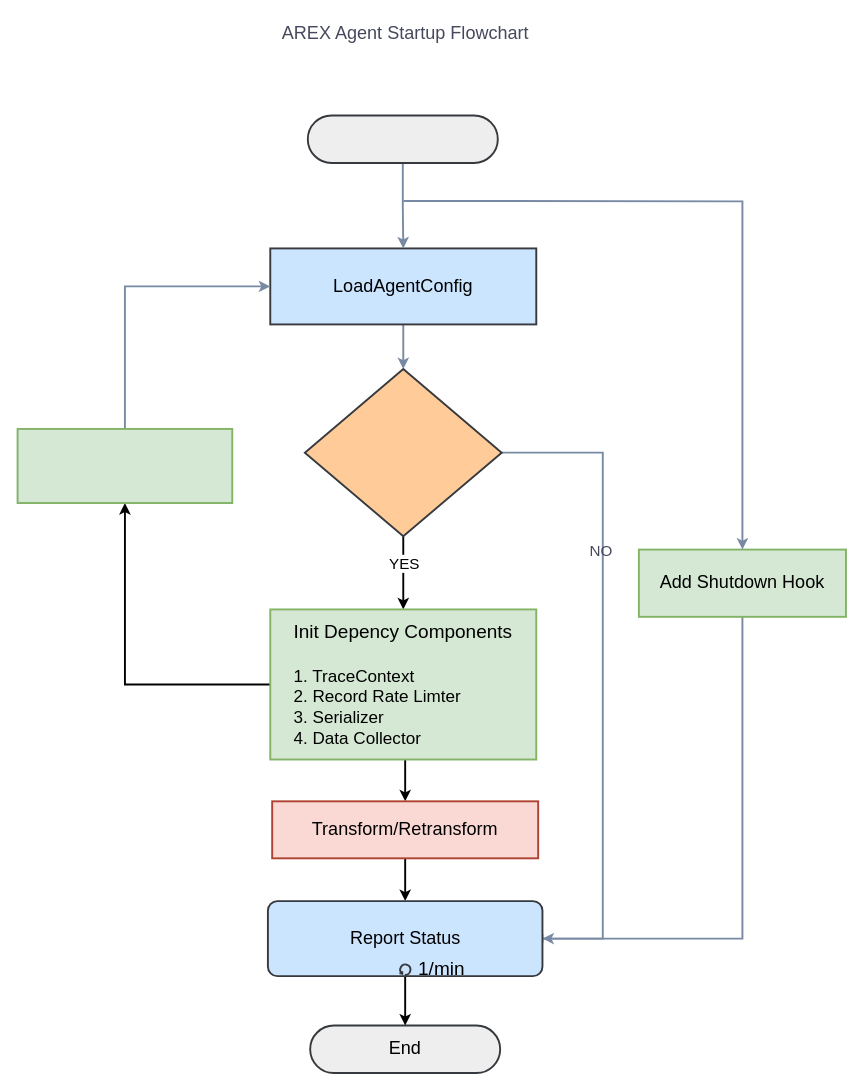
This 863x1090 diagram has some shape labels left out. The centre of each missing label's shape, as x and y in pixels:
Add Schedule Task: (x=124, y=466)
Start: (x=402, y=138)
Start/Retransform: (x=402, y=452)
